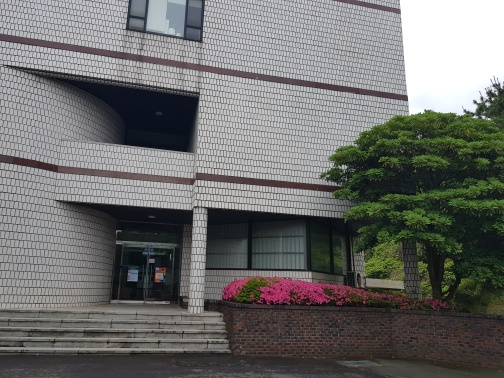Foreign Language Institute: (7, 8, 433, 359), (46, 177, 242, 341)
